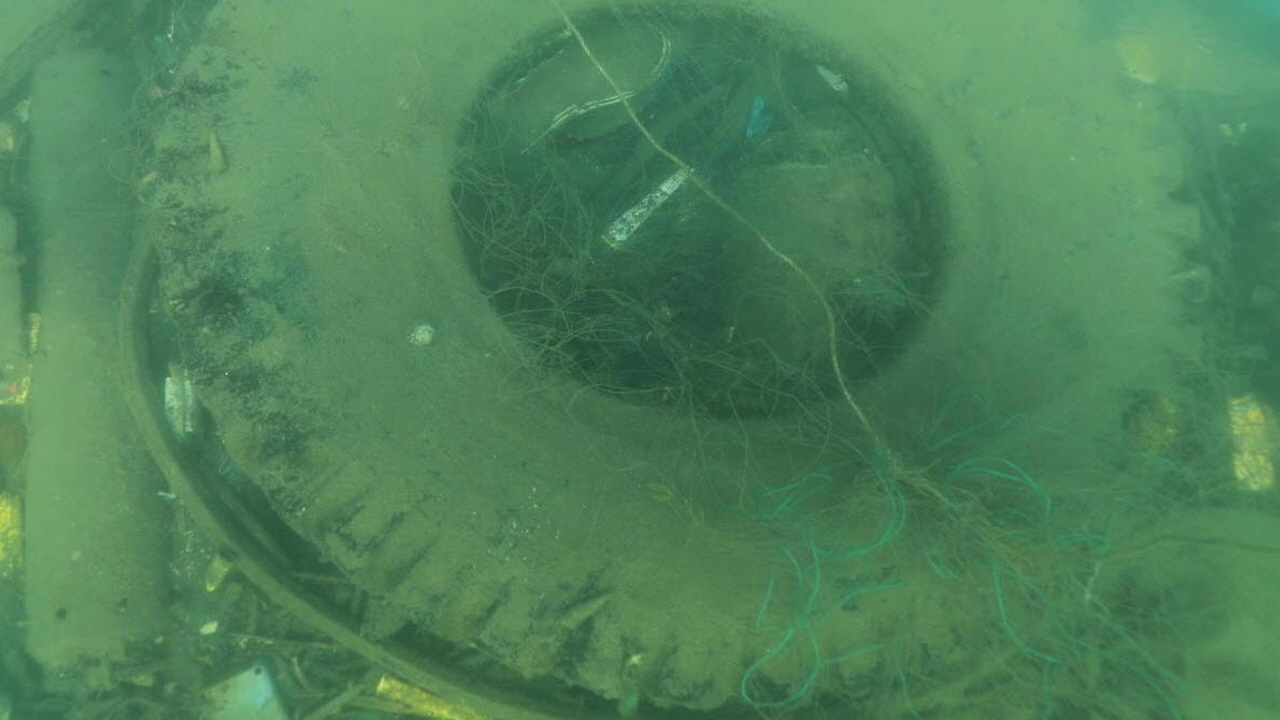eel fish trap: (20, 45, 164, 691)
tire: (144, 0, 1206, 703)
